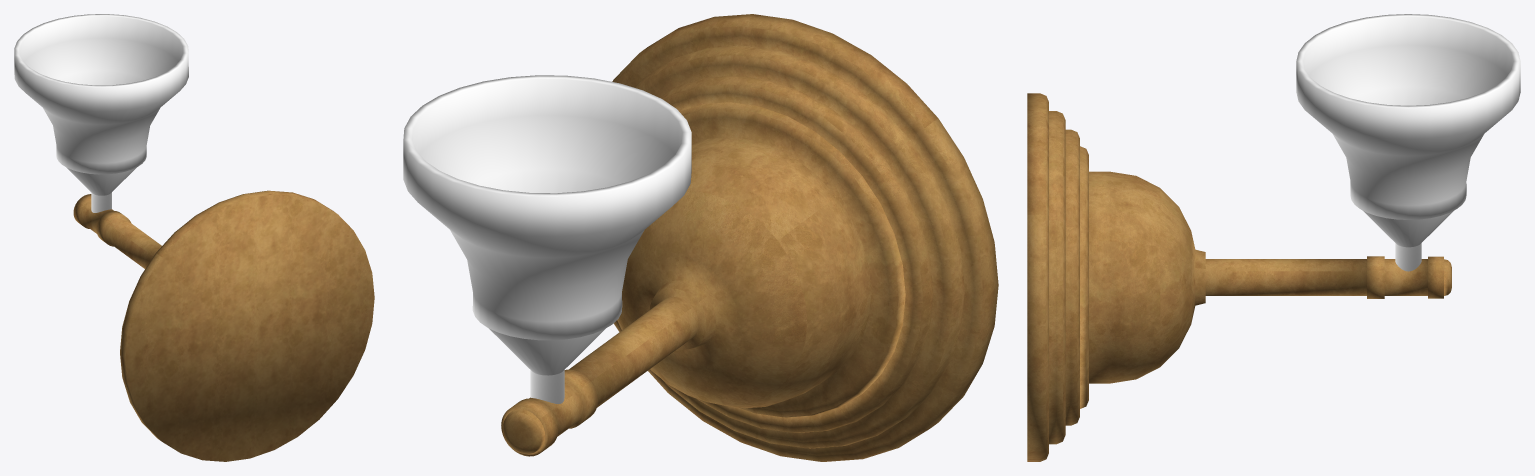
The picture shows the model from 3 angles, left to right: view 1: azimuth 30°, elevation 25°; view 2: azimuth 150°, elevation 25°; view 3: azimuth 270°, elevation 25°; orthographic projection. The views are drawn at different scales.
Parts seen in each view (by area): view 1: Circle_0, Circle.001_1; view 2: Circle_0, Circle.001_1; view 3: Circle_0, Circle.001_1.
Boxes of the visible parts, <box> form: Circle_0: <box>73,190,374,461</box>; Circle.001_1: <box>14,14,188,212</box>; Circle_0: <box>501,14,998,461</box>; Circle.001_1: <box>403,75,691,403</box>; Circle_0: <box>1027,93,1451,461</box>; Circle.001_1: <box>1296,14,1520,271</box>.
Bounding box in the file's own units: 2 × 2.29 × 2.67.
2 materials, 1 textured.
